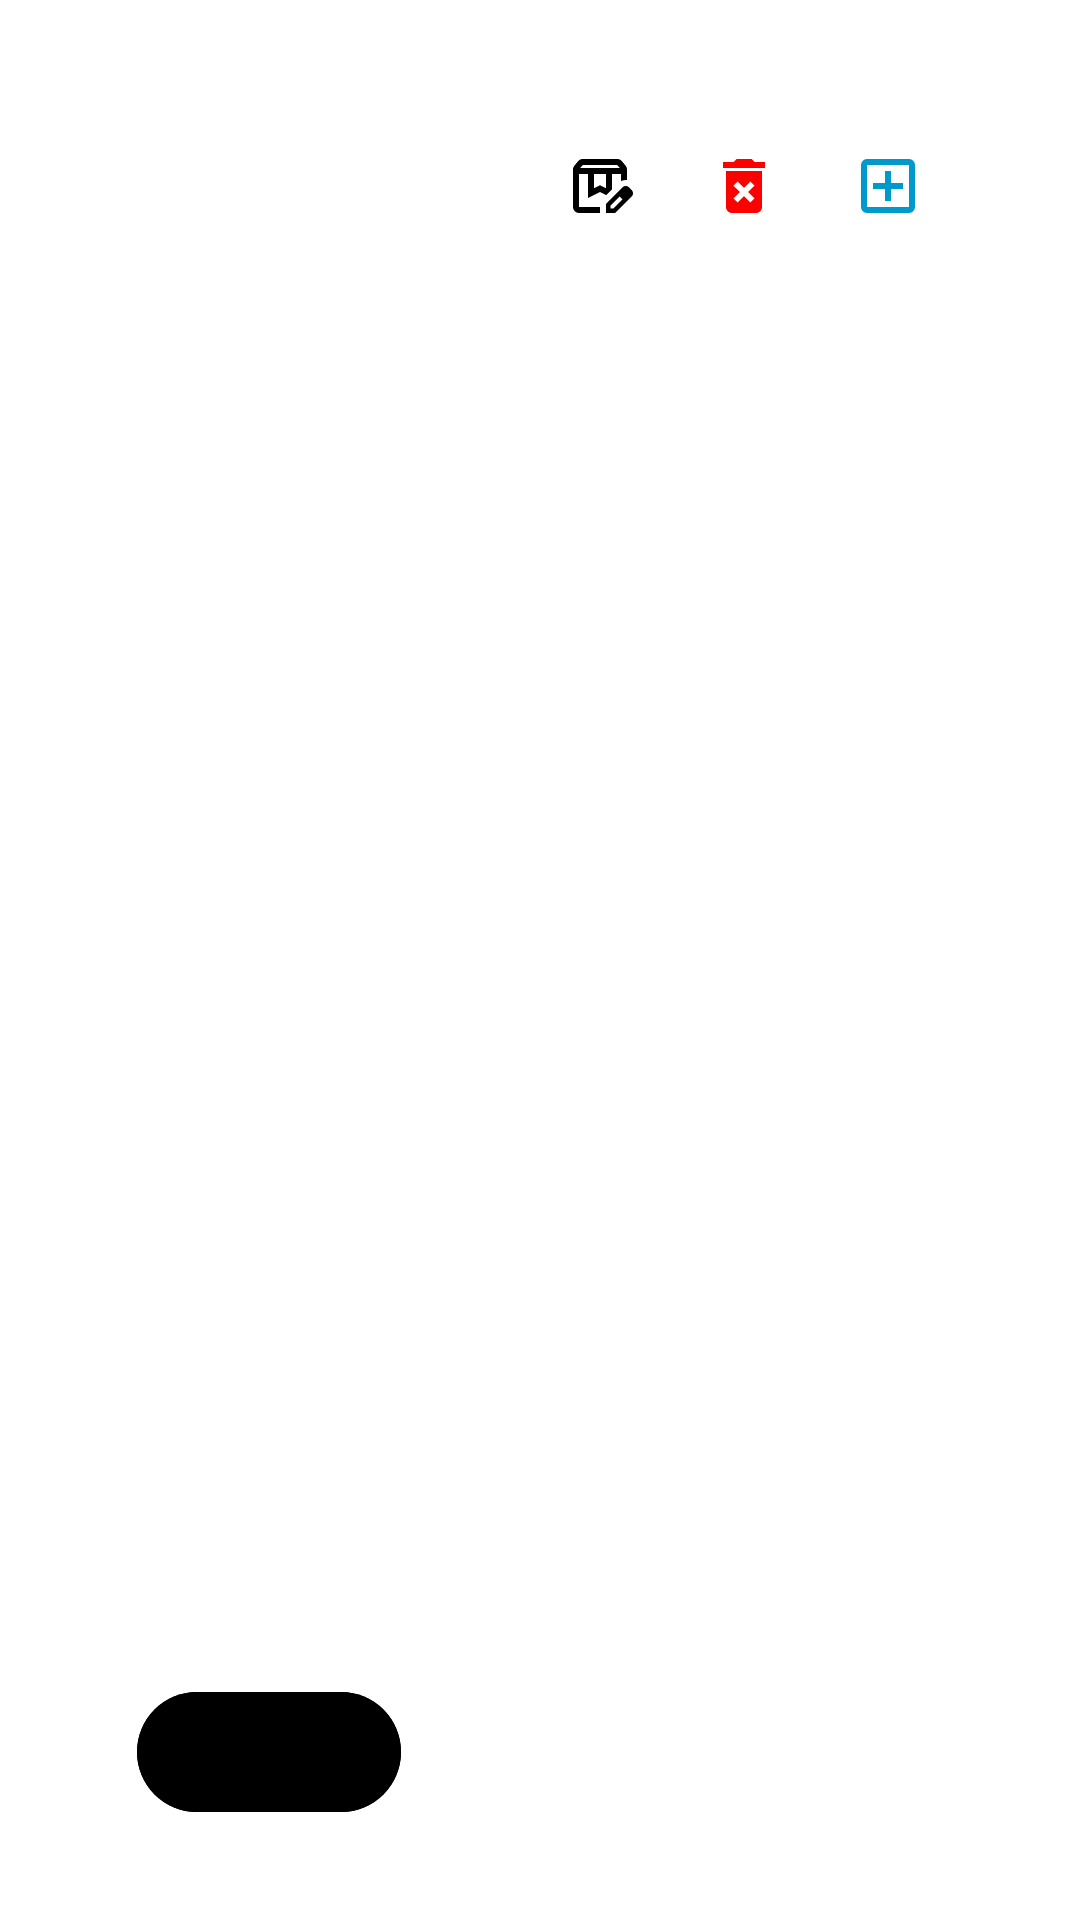

Icons on this 1080*1920 Android screen, each with the point to tap as [x,y]:
Add an Event: [888,186]
Edit Event: [603,186]
Remove an Event: [744,186]
